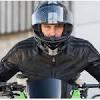helmet: (34, 1, 78, 40)
